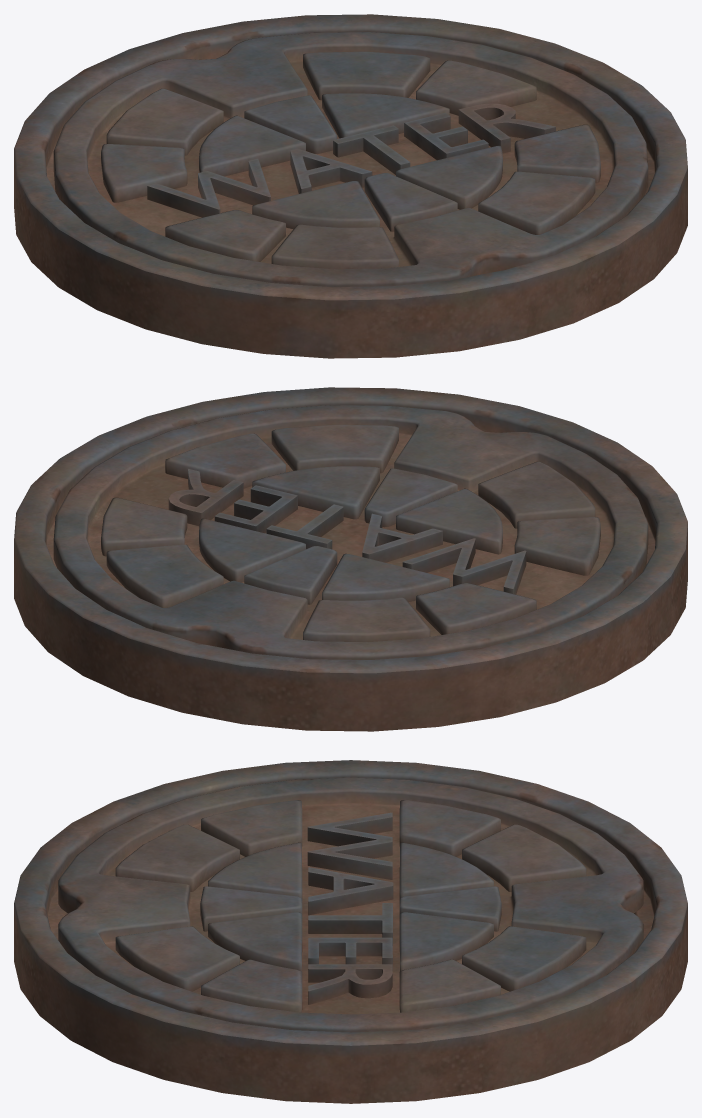
File: water_manhole_cover.glb
3 views of the same model, one above another, from view 1: azimuth 30°, elevation 25°; view 2: azimuth 150°, elevation 25°; view 3: azimuth 270°, elevation 25° (orthographic).
Visible parts, largest first — view 1: water_manhole_cover, water_manhole_cover_frame; view 2: water_manhole_cover, water_manhole_cover_frame; view 3: water_manhole_cover, water_manhole_cover_frame.
Part boxes in pixels (box(x1,y1,x2,y2)): water_manhole_cover: box(53, 32, 648, 286); water_manhole_cover_frame: box(14, 14, 687, 358); water_manhole_cover: box(53, 405, 648, 659); water_manhole_cover_frame: box(14, 387, 687, 731); water_manhole_cover: box(58, 777, 643, 1032); water_manhole_cover_frame: box(14, 760, 687, 1103).
Size of the model in its own units: 0.6908 by 0.0676 by 0.6908.
1 material, 1 textured.
